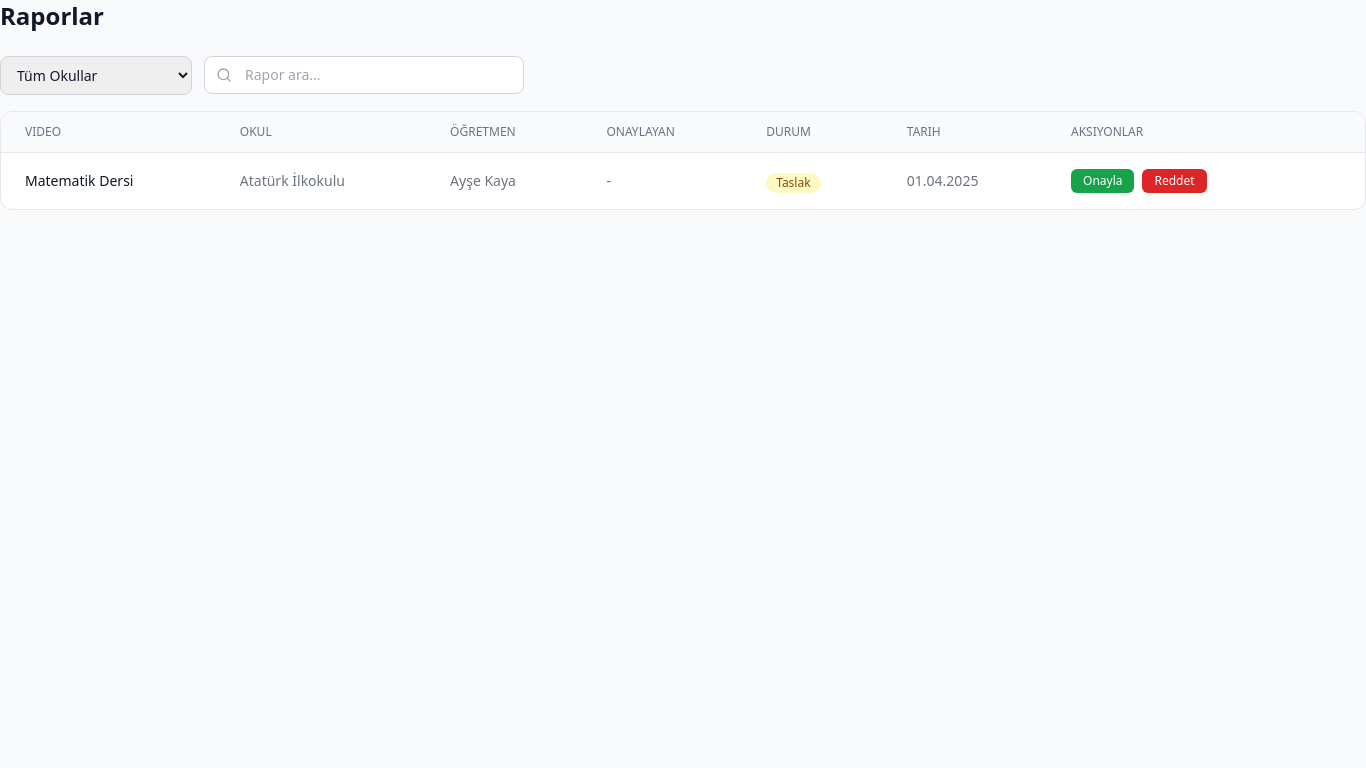
Test: ReportsPage › Reddet modalı › İptal butonuna tıklayınca modal kapanır
The image size is (1366, 768).
Click the button "Reddet". click: (1175, 181)
box: [1142,169,1207,193]
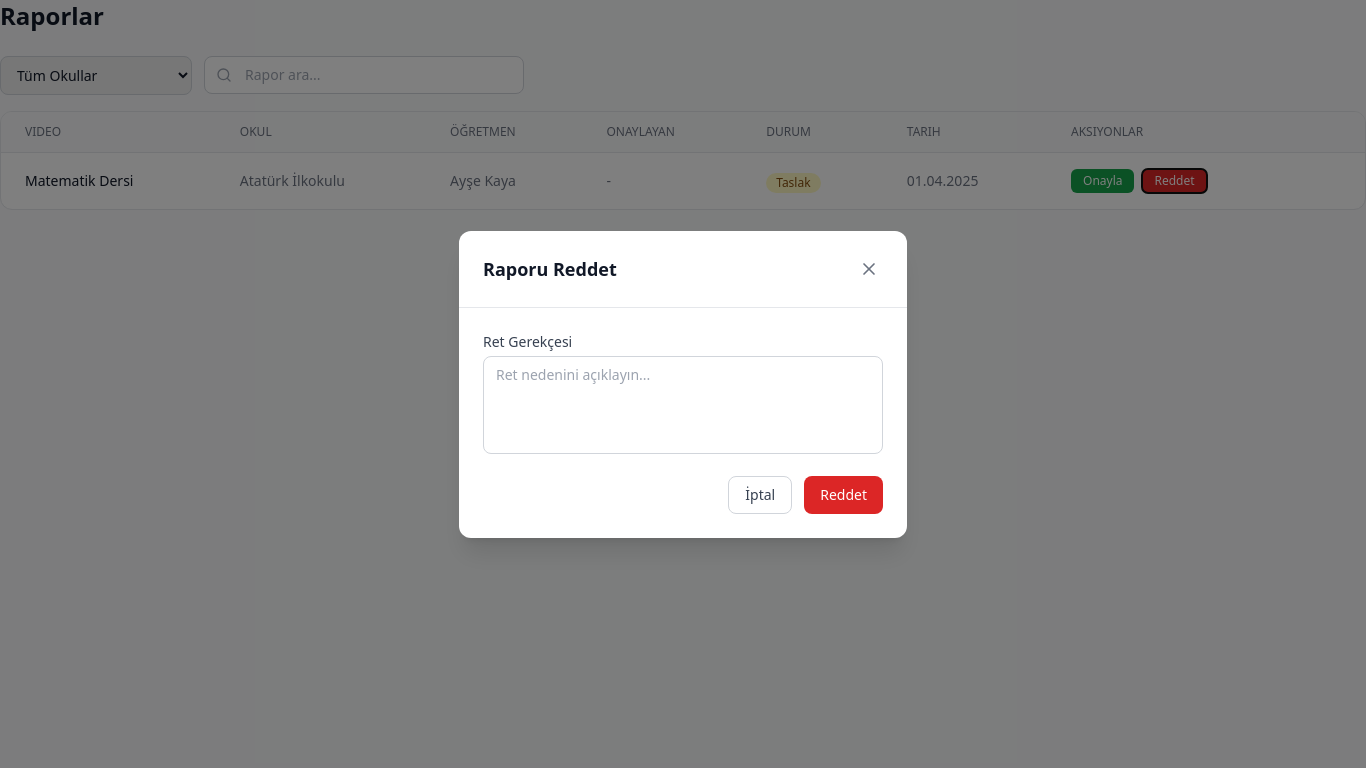
Check: the heading "Raporu Reddet" is shown, box [483,254,617,282]
Click the button "İptal". click: (760, 494)
box: [728,476,792,514]
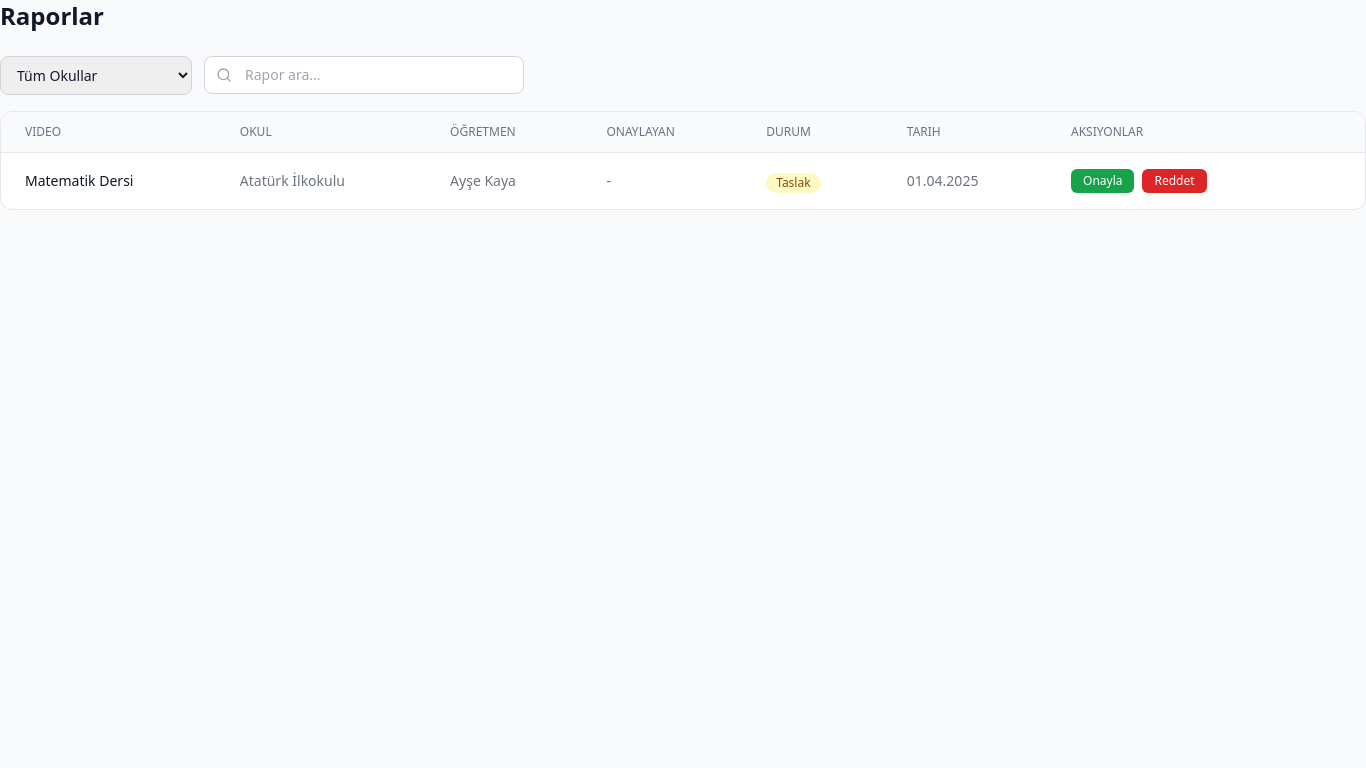
Check: the heading "Raporu Reddet" is gone
